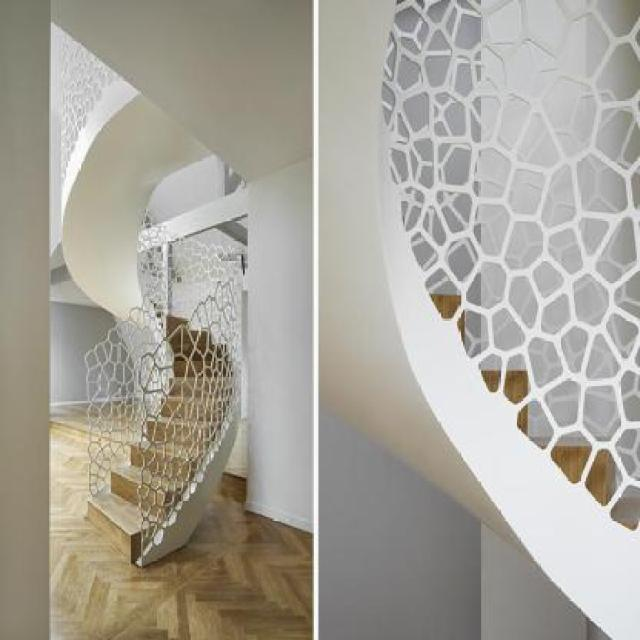stair: (103, 249, 235, 565)
